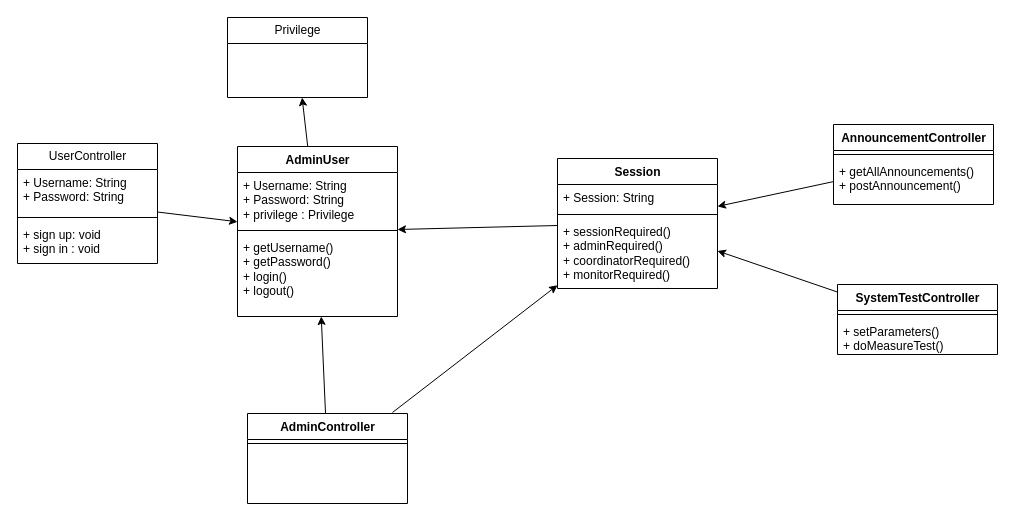
Image size: 1015x524. Some labels were removed from this diagram. The centre of each missing label's shape, as x and y in pixels:
+ ['Administrator', 'Coordinator', 'Monitor', 'Citizen'] : enum: the point at 297,57
+ modifyProfile() + verifyPassword() + verifyUsername(): the point at 327,458
